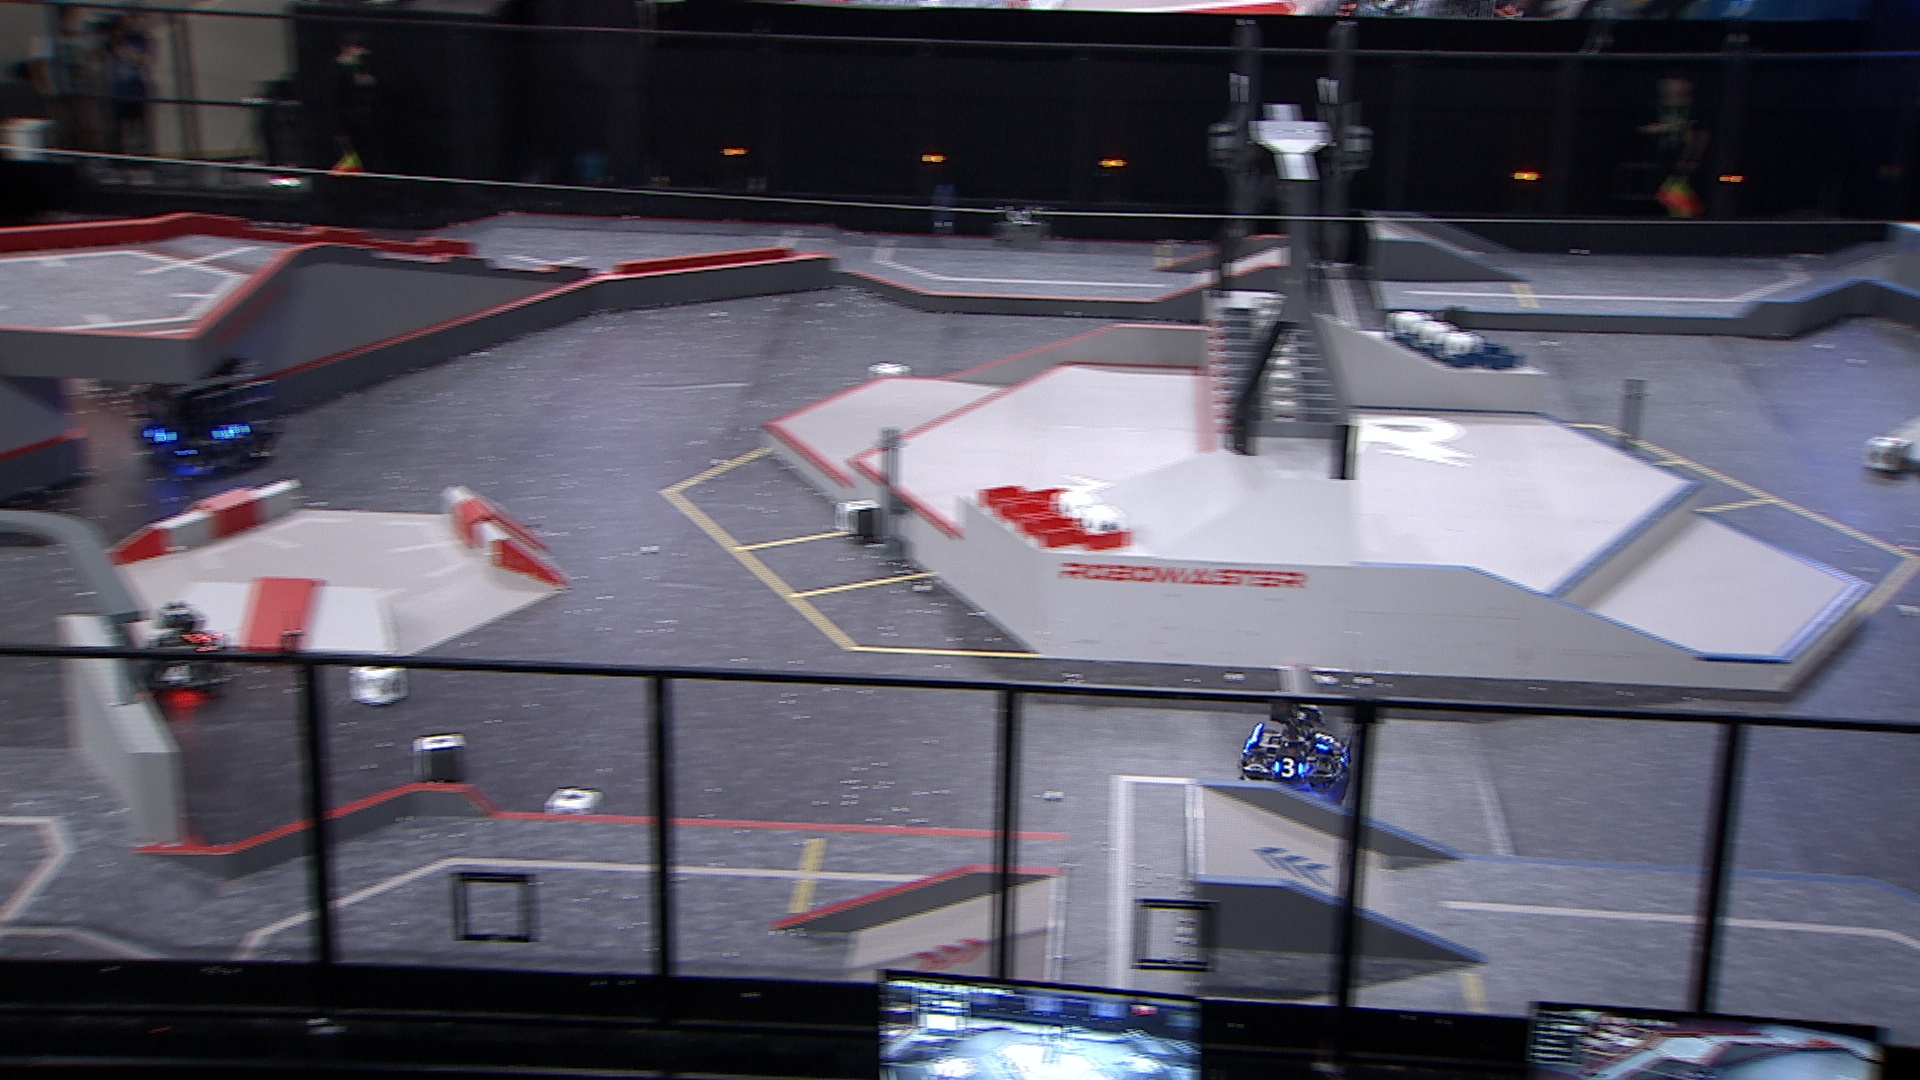armor: (204, 419, 255, 440), (154, 665, 196, 687), (1273, 752, 1305, 779), (138, 423, 175, 444), (1311, 727, 1335, 752)
car: (133, 353, 286, 484), (1237, 692, 1356, 798), (125, 600, 240, 700)
